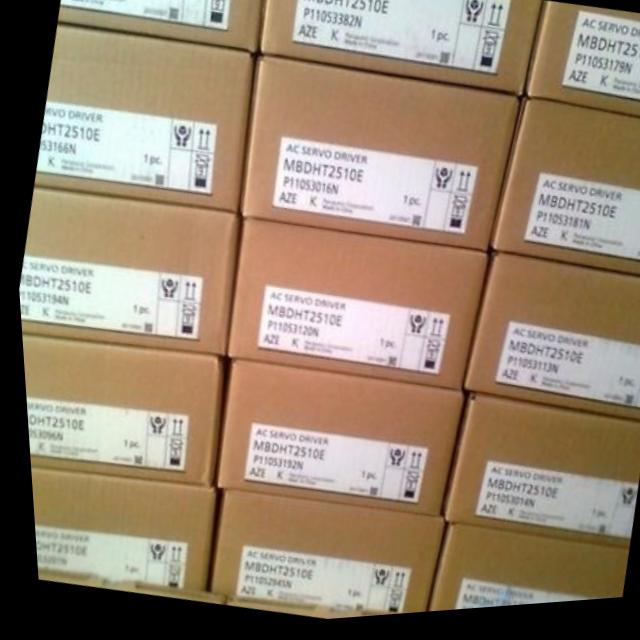box: (236, 60, 523, 258), (218, 224, 485, 397), (31, 28, 253, 216), (209, 363, 460, 521), (15, 190, 237, 360), (433, 400, 639, 557), (456, 263, 640, 432), (18, 335, 218, 488), (202, 491, 438, 619), (258, 0, 542, 103), (485, 105, 640, 286), (25, 468, 210, 595), (419, 530, 619, 618), (523, 9, 640, 128), (56, 0, 265, 59)
